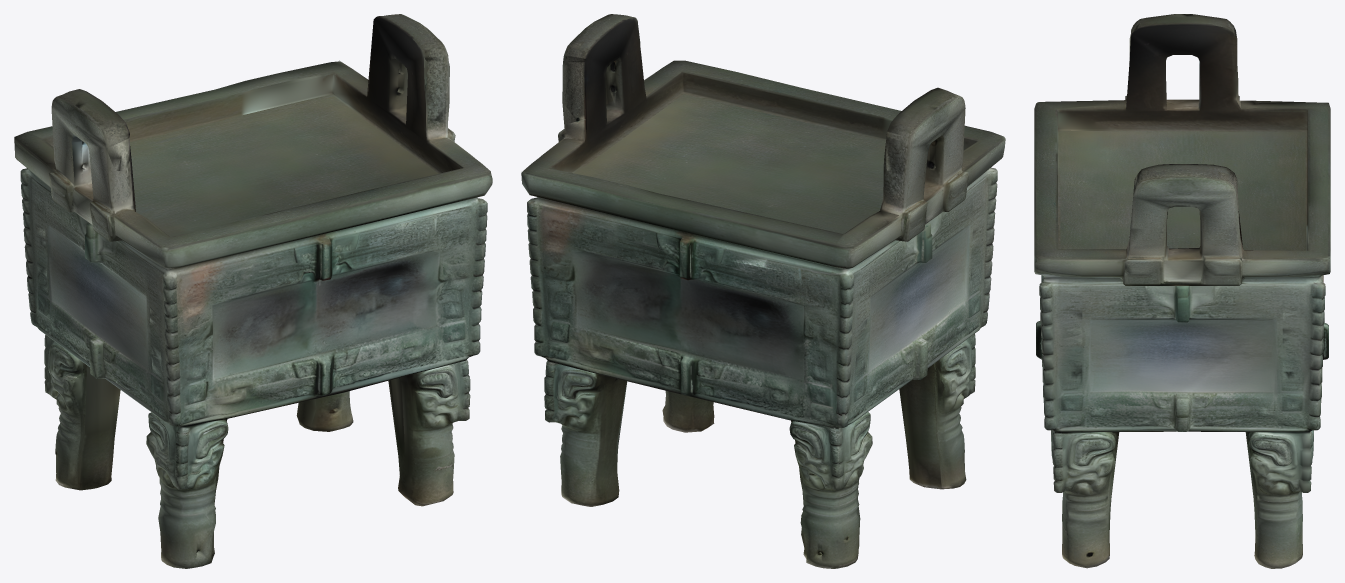
The picture shows the model from 3 angles, left to right: view 1: azimuth 30°, elevation 25°; view 2: azimuth 150°, elevation 25°; view 3: azimuth 270°, elevation 25°; orthographic projection. The views are drawn at different scales.
Parts seen in each view (by area): view 1: material; view 2: material; view 3: material.
Boxes of the visible parts, box(x1,y1,x2,y2) form: material: box(14, 14, 492, 568); material: box(521, 14, 1005, 568); material: box(1034, 14, 1330, 568).
Size of the model in its own units: 1.62 by 1.9 by 1.25.
Materials: 1 (1 with a texture image).
